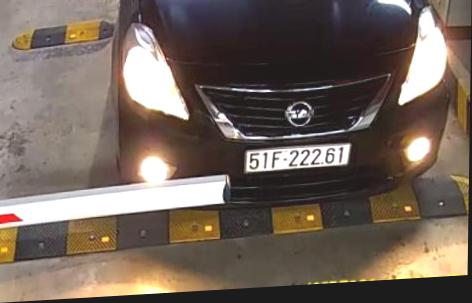License_Plate: (237, 139, 356, 178)
